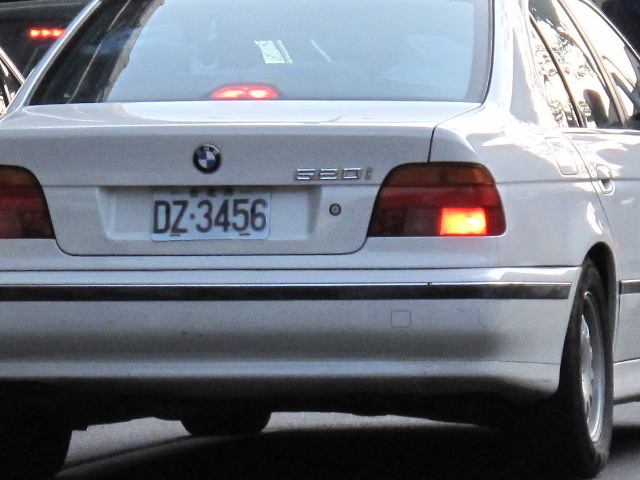plate: (149, 185, 276, 244)
